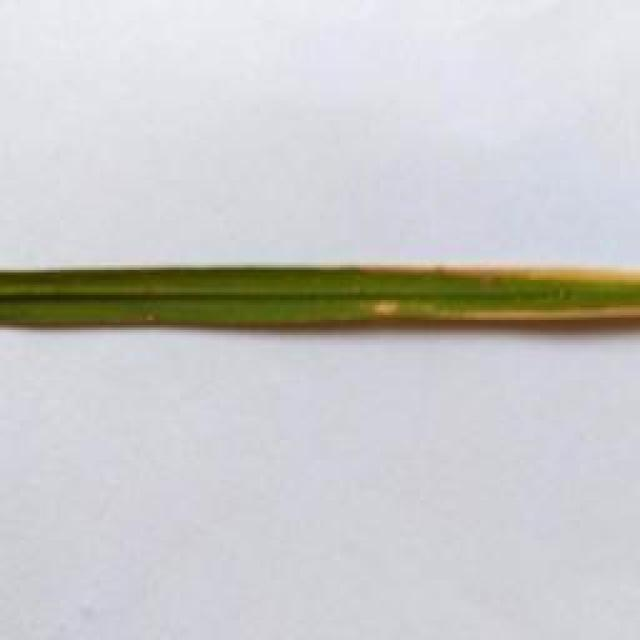Unhealthy: (365, 266, 640, 290), (431, 302, 640, 319), (371, 300, 397, 315)
